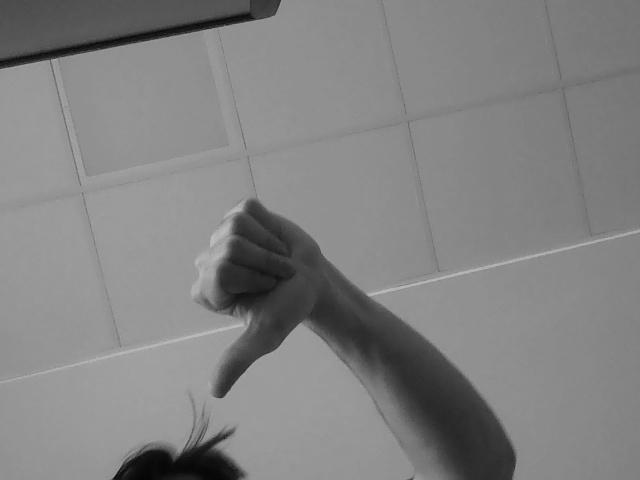bad: (163, 168, 335, 424)
